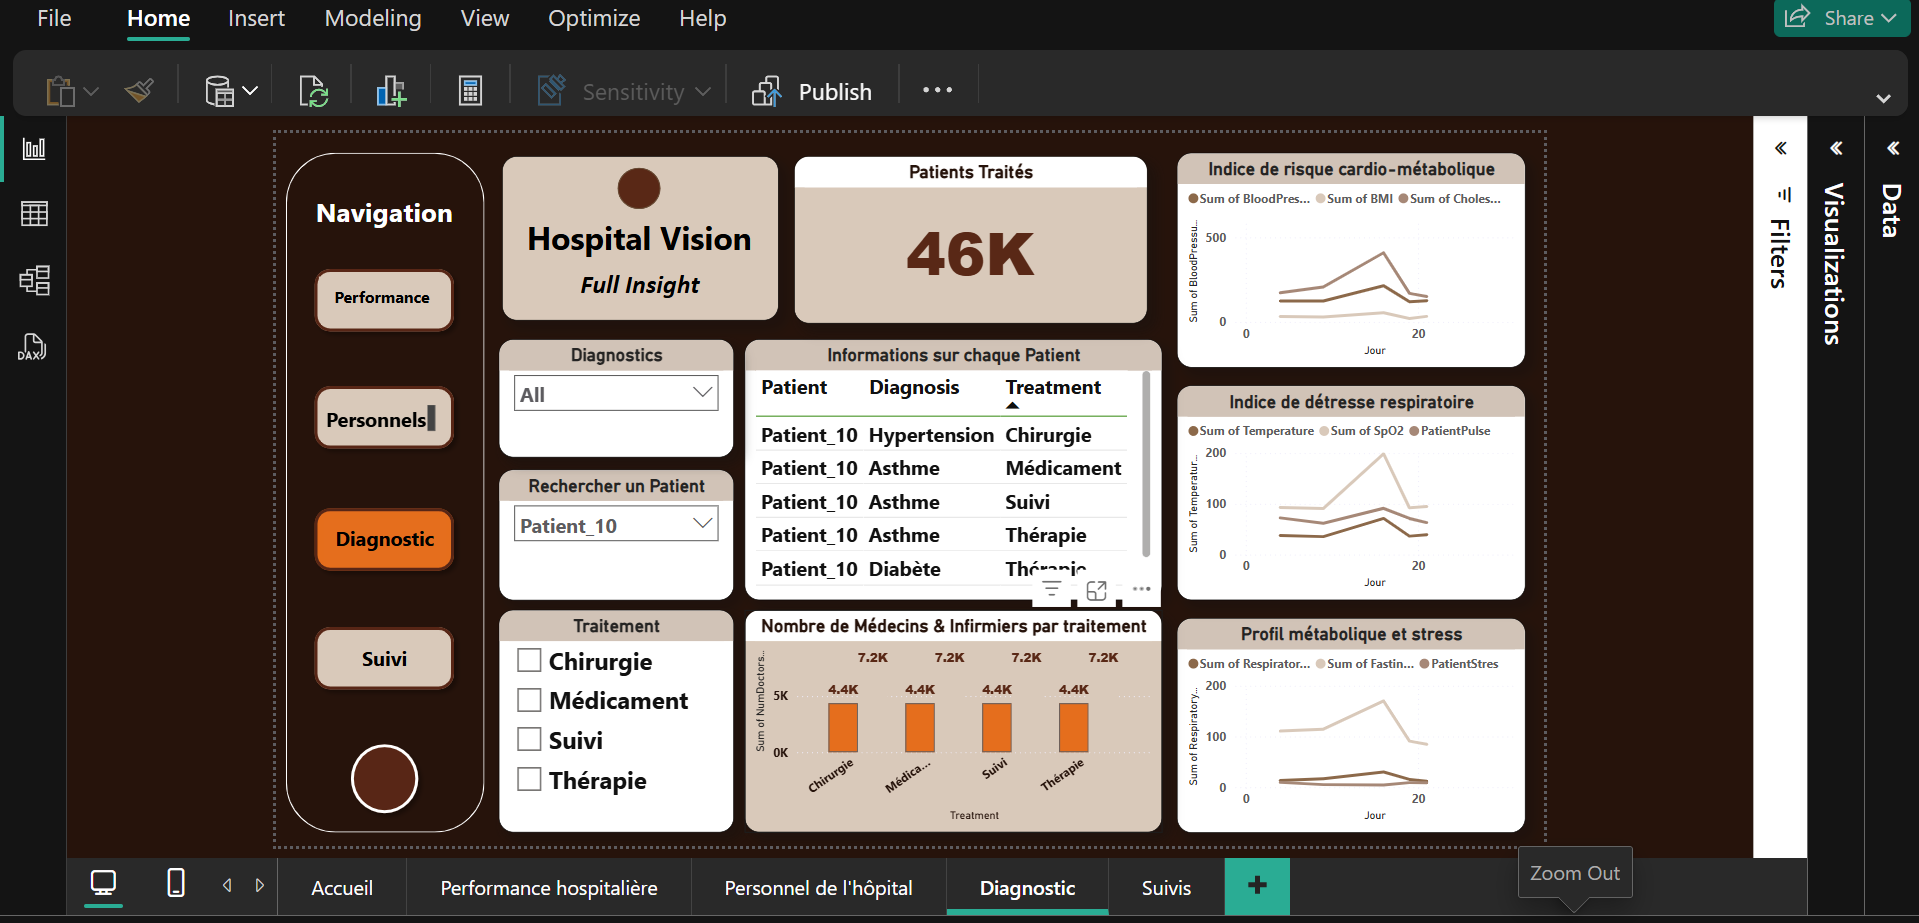

Layout of this report page (visuals, bound fields, positions):
{"tool":"powerbi","page":{"name":"Diagnostic","canvas":[1280,720],"ordinal":3},"visuals":[{"type":"shape","box":[9.7,19.4,200.8,686.7],"z":0},{"type":"textbox","box":[29.8,56.3,159,56.3],"z":0,"group":"g2"},{"type":"shape","box":[228,23.3,279.2,165.9],"z":1000},{"type":"shape","box":[29.8,127.5,159,81.2],"z":1000,"group":"g2"},{"type":"shape","box":[344.5,35.6,43.7,42.1],"z":2000},{"type":"shape","box":[29.8,369.4,159,81.2],"z":2000,"group":"g2"},{"type":"group","id":"g1","title":"Groupe 1","box":[237.8,77.6,257.2,101.9],"z":3000},{"type":"shape","box":[29.8,246.8,159,81.2],"z":3000,"group":"g2"},{"type":"group","id":"g2","title":"Groupe 2","box":[29.8,56.3,159,639.4],"z":4000},{"type":"shape","box":[29.8,490.3,159,81.2],"z":4000,"group":"g2"},{"type":"slicer","title":"Rechercher un Patient","fields":{"Values":["patients_hospital.Patient"]},"box":[224.9,339.6,237.3,131.8],"z":5000},{"type":"shape","box":[66.2,607.9,86.1,87.8],"z":5000,"group":"g2"},{"type":"lineChart","title":"Indice de risque cardio-métabolique","fields":{"Category":["patients_hospital.Date.Variation.Hiérarchie de dates.Jour"],"Y":["Sum(patients_hospital.BloodPressure)","Sum(patients_hospital.BMI)","Sum(patients_hospital.Cholesterol)"]},"box":[910.4,20.2,352.1,217.1],"z":6000},{"type":"textbox","box":[237.8,77.6,257.2,53.4],"z":6000,"group":"g1"},{"type":"textbox","box":[289.6,131,155.3,48.5],"z":7000,"group":"g1"},{"type":"lineChart","title":"Profil métabolique  et stress","fields":{"Category":["patients_hospital.Date.Variation.Hiérarchie de dates.Jour"],"Y":["Sum(patients_hospital.RespiratoryRate)","Sum(patients_hospital.FastingGlucose)","patients_hospital.PatientStres"]},"box":[910.4,490.1,352.1,217.1],"z":7000},{"type":"lineChart","title":"Indice de détresse respiratoire","fields":{"Category":["patients_hospital.Date.Variation.Hiérarchie de dates.Jour"],"Y":["Sum(patients_hospital.Temperature)","Sum(patients_hospital.SpO2)","patients_hospital.PatientPulse"]},"box":[910.4,254.3,352.1,217.1],"z":8000},{"type":"tableEx","title":"Informations sur chaque Patient","fields":{"Values":["patients_hospital.Patient","patients_hospital.Diagnosis","patients_hospital.Treatment"]},"box":[473,207.8,421.8,263.7],"z":9000},{"type":"slicer","title":"Diagnostics","fields":{"Values":["patients_hospital.Diagnosis"]},"box":[224.9,207.8,237.3,119.4],"z":10000},{"type":"slicer","title":"Traitement","fields":{"Values":["patients_hospital.Treatment"]},"box":[224.9,482.3,237.3,224.9],"z":11000},{"type":"card","title":"Patients Traités","fields":{"Values":["Sum(performance_hospital.PatientsTreated)"]},"box":[522.6,23.3,356.7,169],"z":12000},{"type":"clusteredColumnChart","title":"Nombre de Médecins & Infirmiers par traitement","fields":{"Y":["Sum(personal_hospital.NumDoctors)","Sum(personal_hospital.NumNurses)"],"Category":["patients_hospital.Treatment"]},"box":[473,482,422,225],"z":13000},{"type":"textbox","box":[43.9,269.5,122.7,36.3],"z":14000},{"type":"textbox","box":[48.1,511.8,122.5,37.2],"z":15000},{"type":"textbox","box":[47.8,390.7,122.8,46.1],"z":16000},{"type":"textbox","box":[43.4,144.2,127.2,41.9],"z":17000}]}

Visuals, with their boxes on the page's 1280x720 design canvas (x1, y1, x2, y2). These are canvas units, not pixel positions in the 1919x923 screenshot, which may show the page scaled, cropped or inside an application window:
shape: Rect(10, 19, 210, 706)
textbox: Rect(30, 56, 189, 113)
shape: Rect(228, 23, 507, 189)
shape: Rect(30, 128, 189, 209)
shape: Rect(344, 36, 388, 78)
shape: Rect(30, 369, 189, 451)
"Groupe 1" group: Rect(238, 78, 495, 180)
shape: Rect(30, 247, 189, 328)
"Groupe 2" group: Rect(30, 56, 189, 696)
shape: Rect(30, 490, 189, 572)
"Rechercher un Patient" slicer: Rect(225, 340, 462, 471)
shape: Rect(66, 608, 152, 696)
"Indice de risque cardio-métabolique" lineChart: Rect(910, 20, 1262, 237)
textbox: Rect(238, 78, 495, 131)
textbox: Rect(290, 131, 445, 180)
"Profil métabolique  et stress" lineChart: Rect(910, 490, 1262, 707)
"Indice de détresse respiratoire" lineChart: Rect(910, 254, 1262, 471)
"Informations sur chaque Patient" tableEx: Rect(473, 208, 895, 472)
"Diagnostics" slicer: Rect(225, 208, 462, 327)
"Traitement" slicer: Rect(225, 482, 462, 707)
"Patients Traités" card: Rect(523, 23, 879, 192)
"Nombre de Médecins & Infirmiers par traitement" clusteredColumnChart: Rect(473, 482, 895, 707)
textbox: Rect(44, 270, 167, 306)
textbox: Rect(48, 512, 171, 549)
textbox: Rect(48, 391, 171, 437)
textbox: Rect(43, 144, 171, 186)
